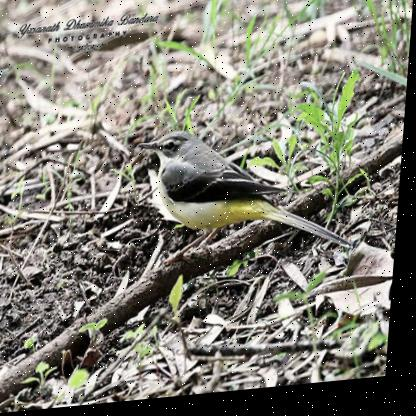Burung: (134, 122, 363, 278)
